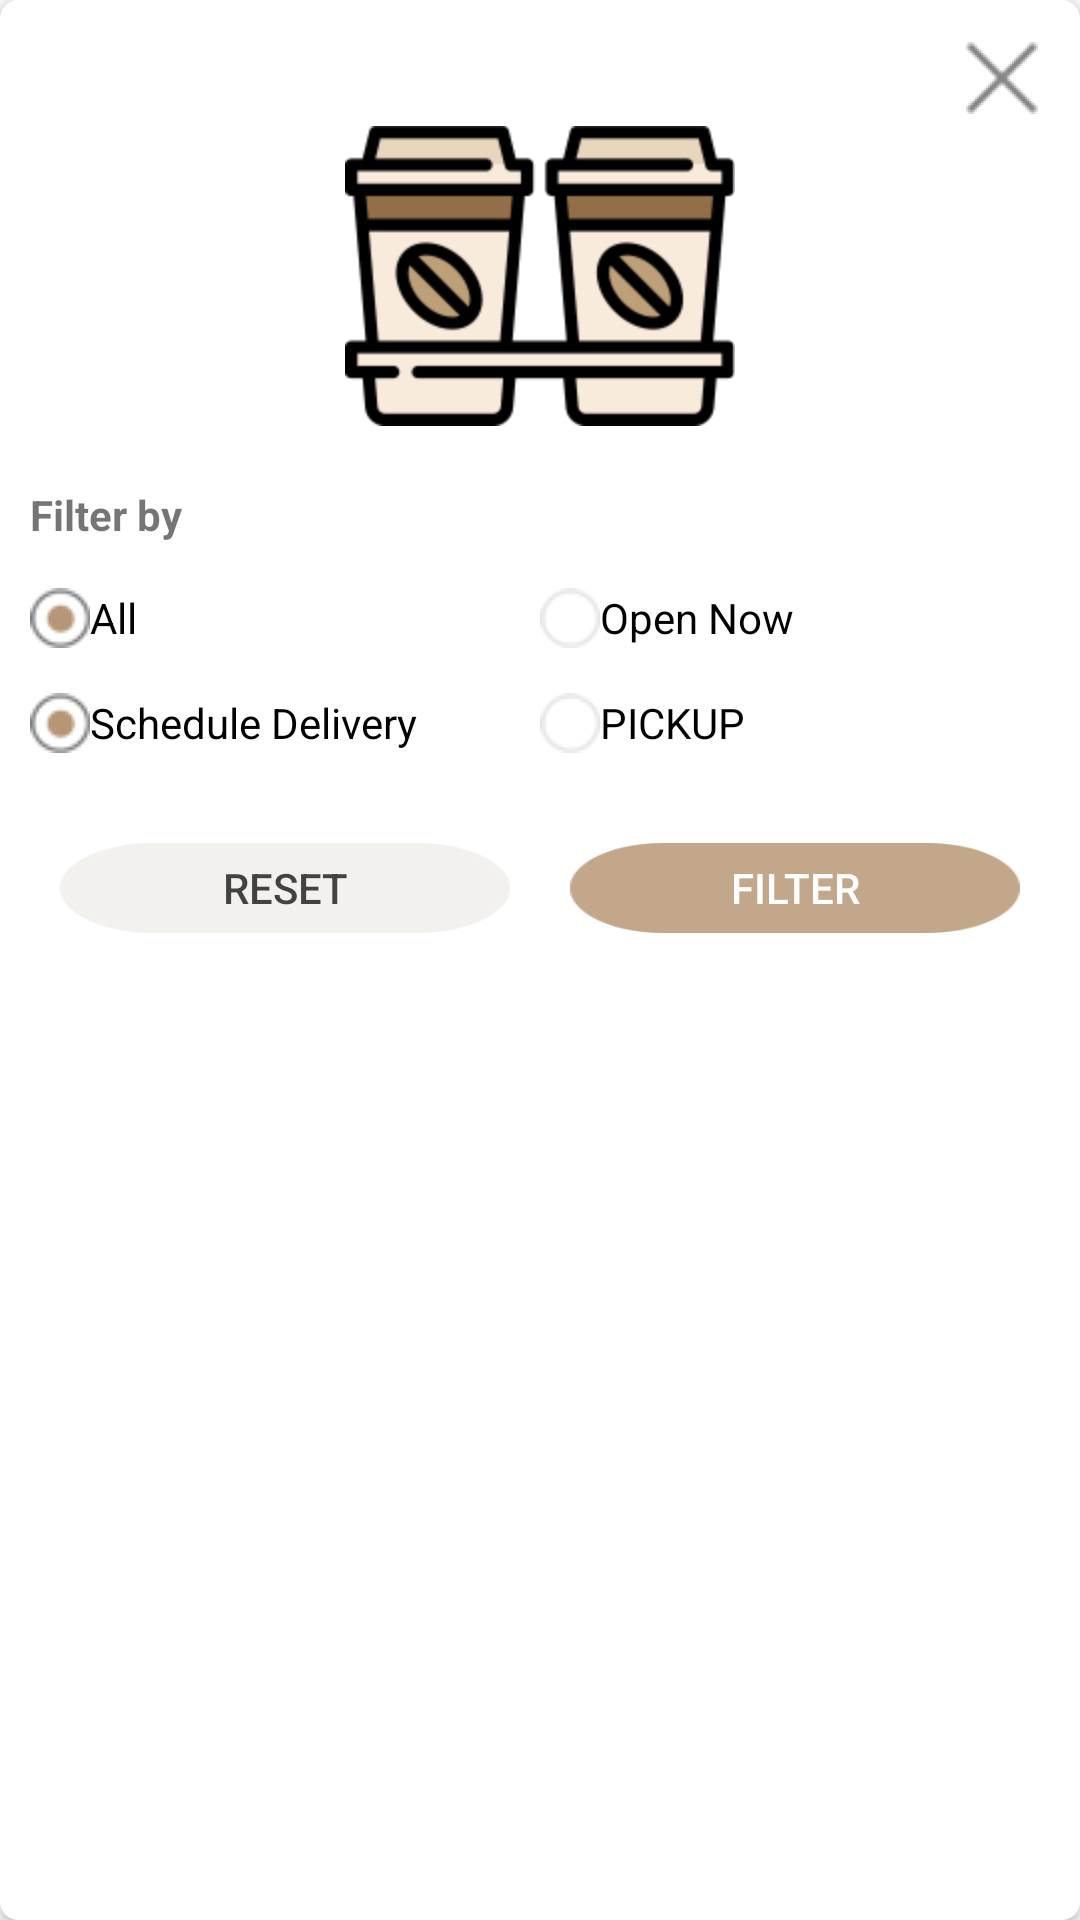

Icons on this 1080 × 1920 Android screen, each with its box as (x1, y1, x2, y2):
close: (966, 42, 1038, 114)
